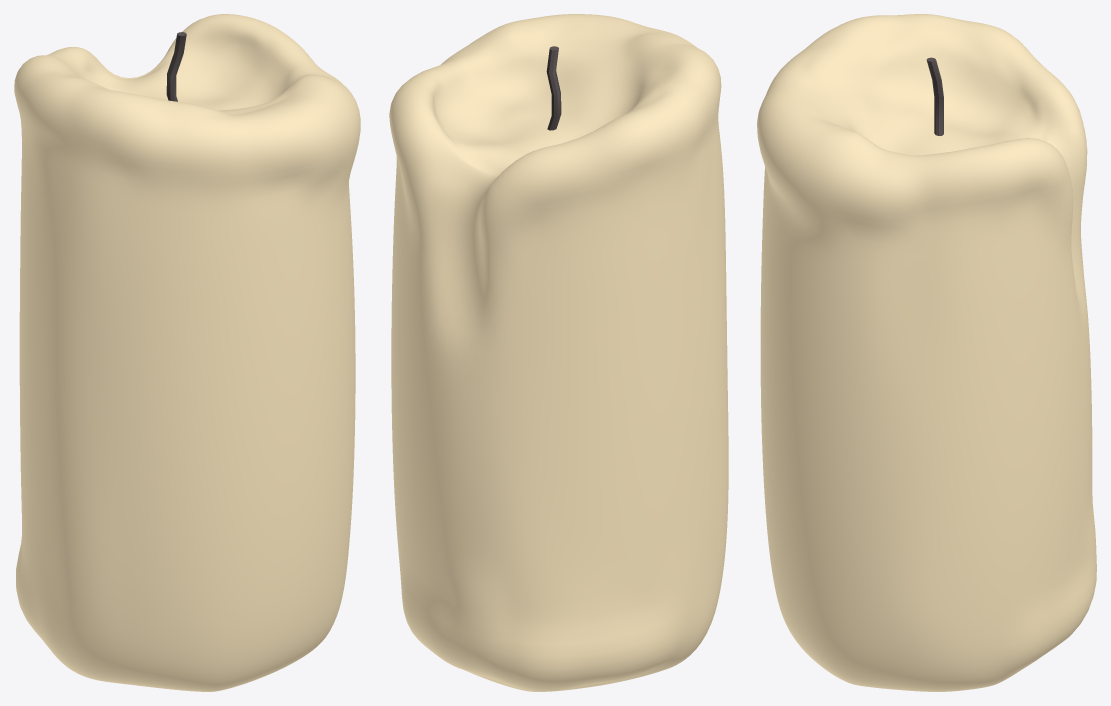
File: candle.fbx
The picture shows the model from 3 angles, left to right: view 1: azimuth 30°, elevation 25°; view 2: azimuth 150°, elevation 25°; view 3: azimuth 270°, elevation 25°; orthographic projection. The views are drawn at different scales.
Parts seen in each view (by area): view 1: Wax, fuze; view 2: Wax, fuze; view 3: Wax, fuze.
Boxes of the visible parts, box(x1,y1,x2,y2) form: Wax: box(14, 14, 360, 691); fuze: box(166, 32, 186, 101); Wax: box(389, 14, 728, 691); fuze: box(546, 46, 561, 130); Wax: box(757, 14, 1096, 691); fuze: box(926, 57, 943, 135).
Bounding box in the file's own units: 9.62 × 19.12 × 9.97.
